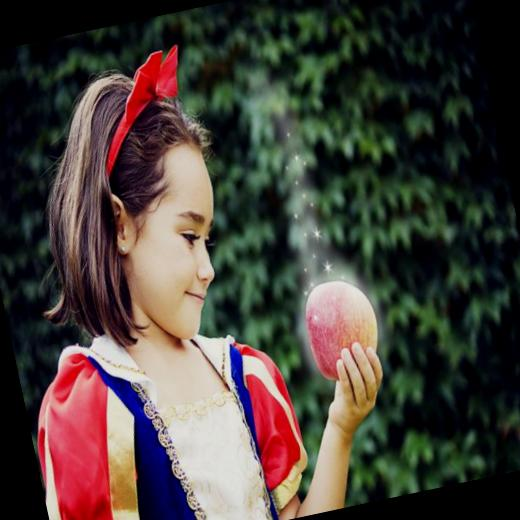Apple: (294, 270, 390, 406)
